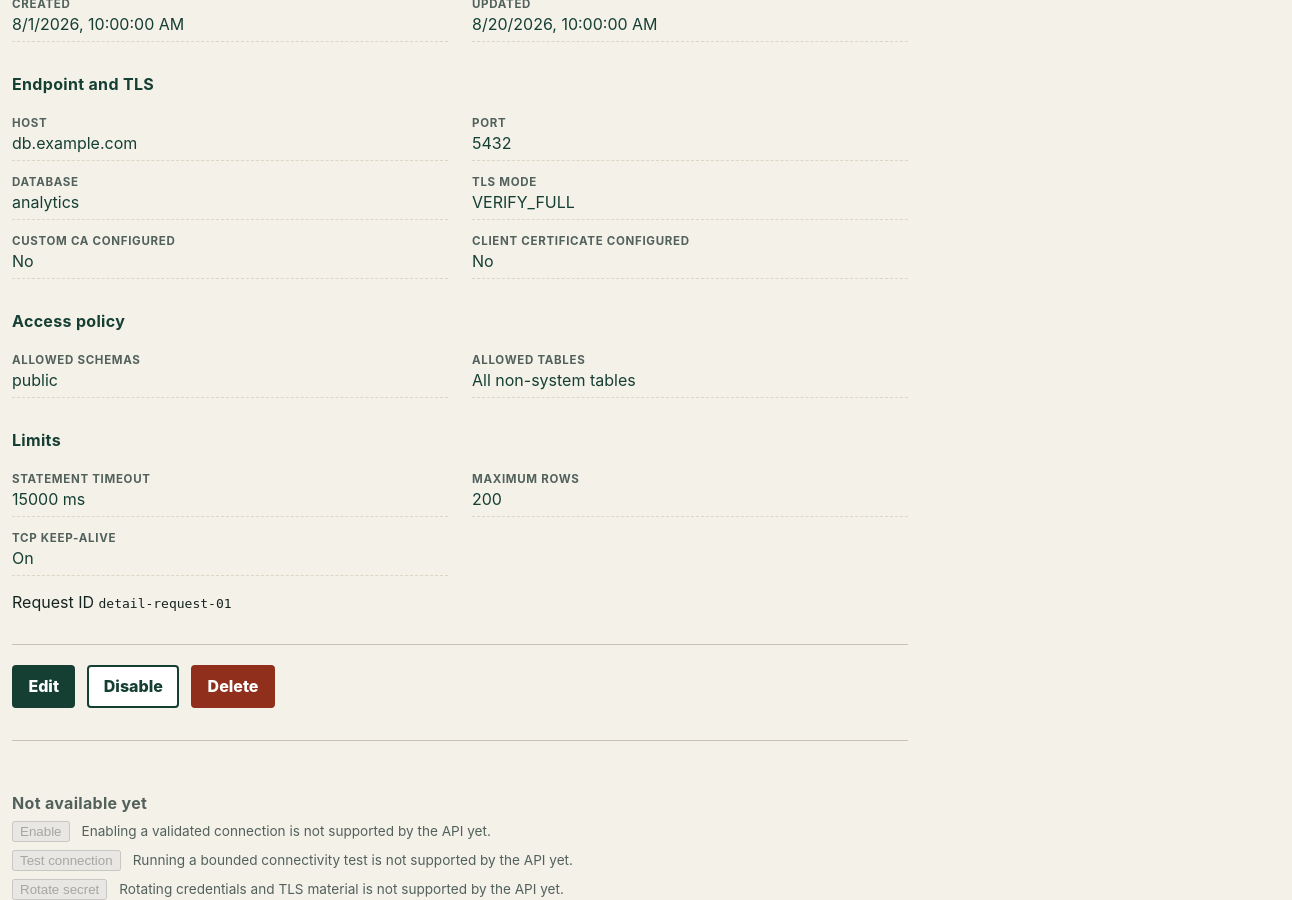
Test case: ConnectionDetailPanel › opens the edit form and cancels back to the detail view
(page scrolled)
Click the button "Edit".
click(44, 686)  # box top-left (12, 664), bottom-right (75, 708)
(page scrolled)
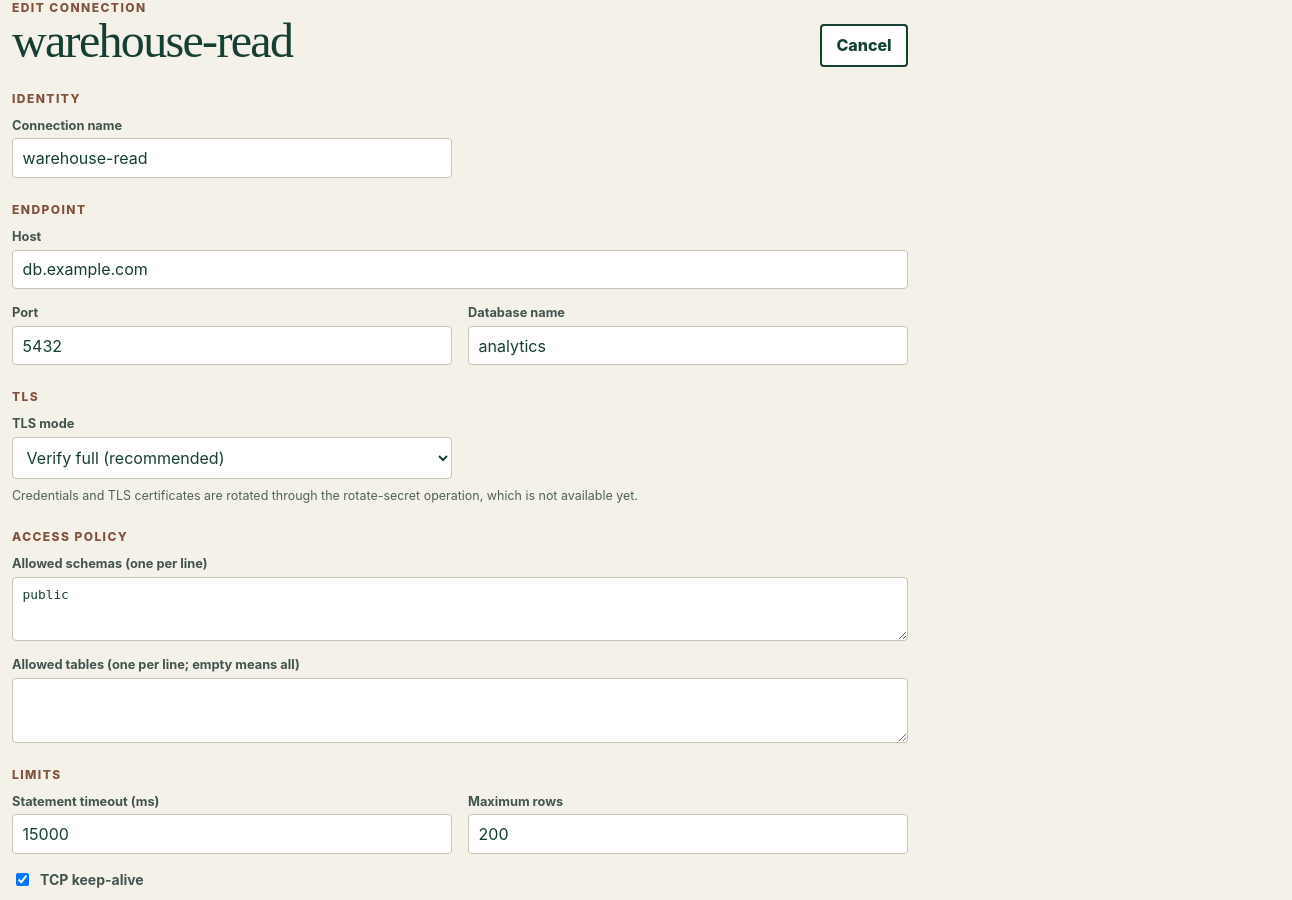
Check: the heading "warehouse-read" is shown, box top-left (12, 15), bottom-right (292, 67)
Click the button "Cancel".
click(864, 45)  # box top-left (820, 24), bottom-right (908, 67)
(page scrolled)
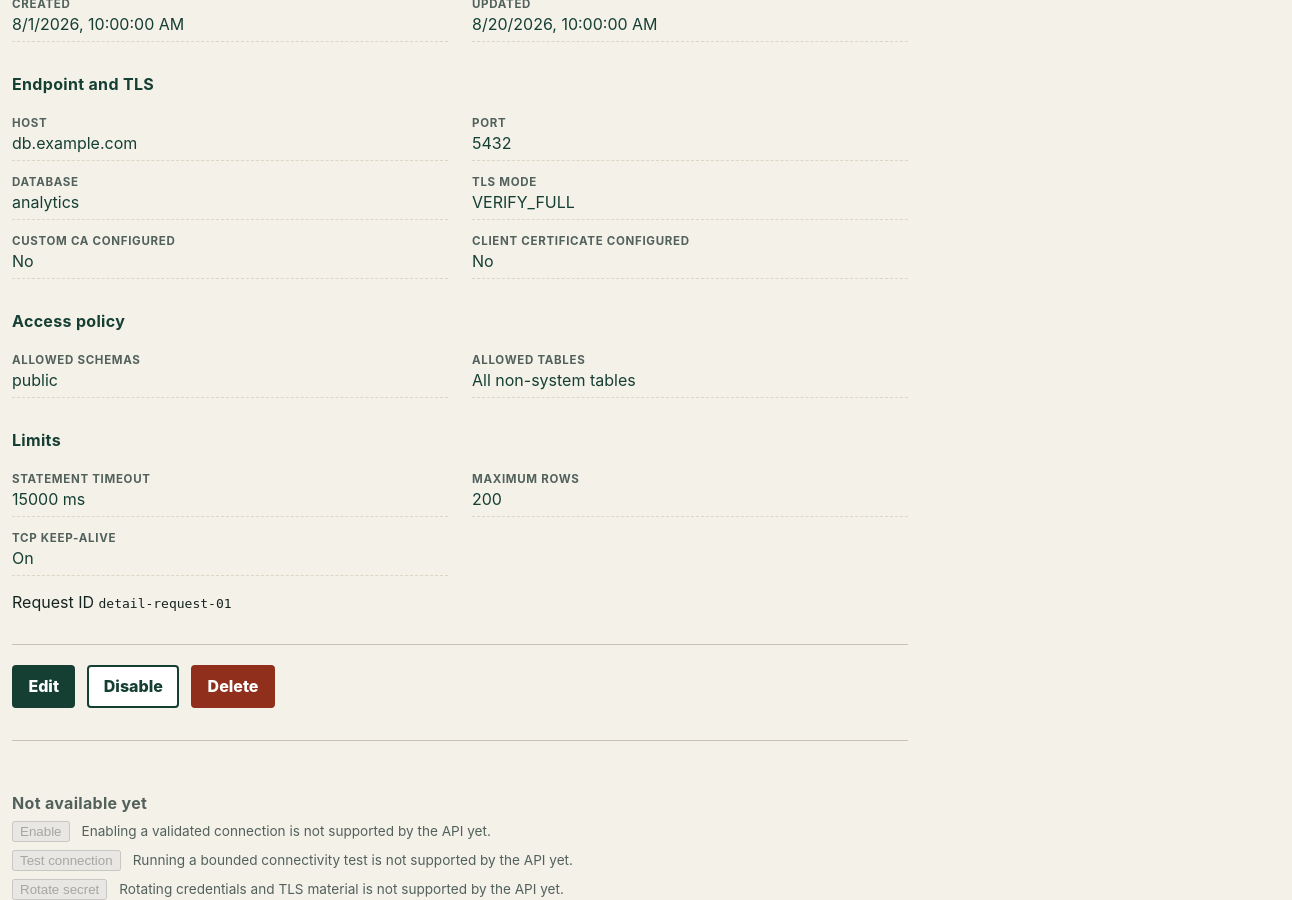
Check: the button "Edit" is shown, box top-left (12, 664), bottom-right (75, 708)
